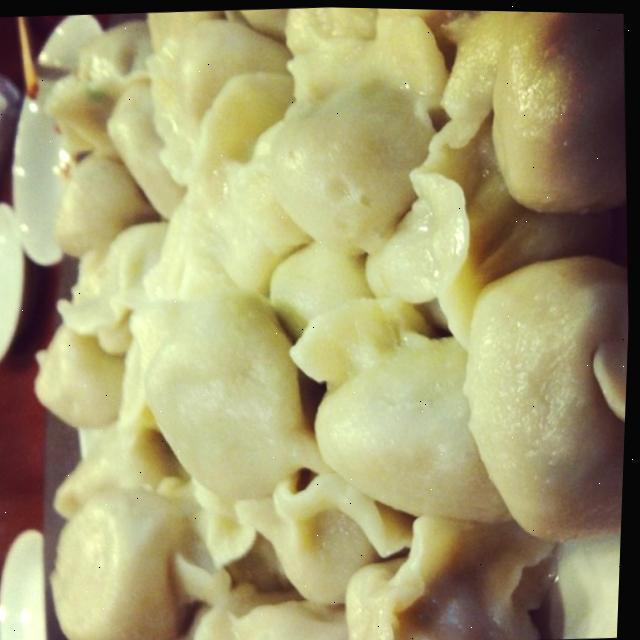带馅早点: (0, 0, 629, 640)
